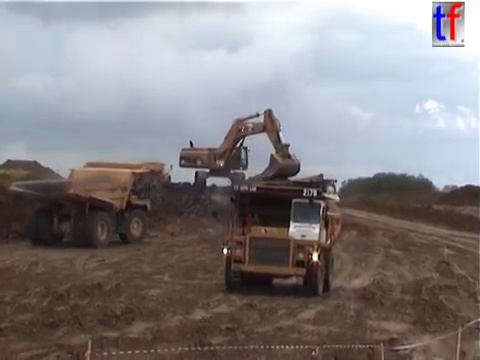excavator: (176, 106, 304, 194), (238, 172, 327, 205)
truck: (210, 181, 343, 297), (7, 165, 153, 249), (233, 173, 341, 227), (81, 159, 173, 192)
